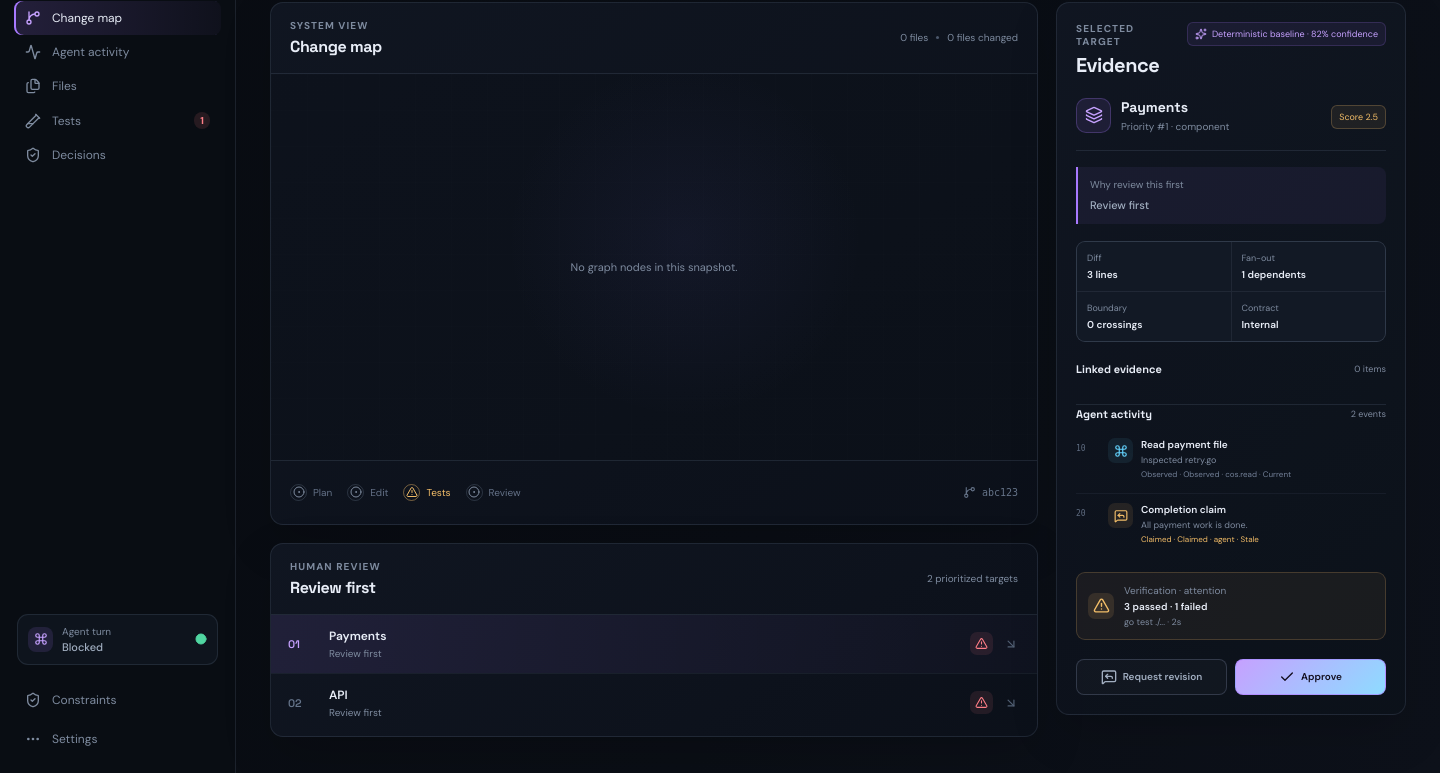
Test: Atlas app states › renders target-scoped agent activity with claim and freshness semantics
(page scrolled)
expect the text "API contract check" is not shown: met
Click the button with class "review-row" showing "02 API Review first".
click(355, 712)  # box [271,673,1037,732]
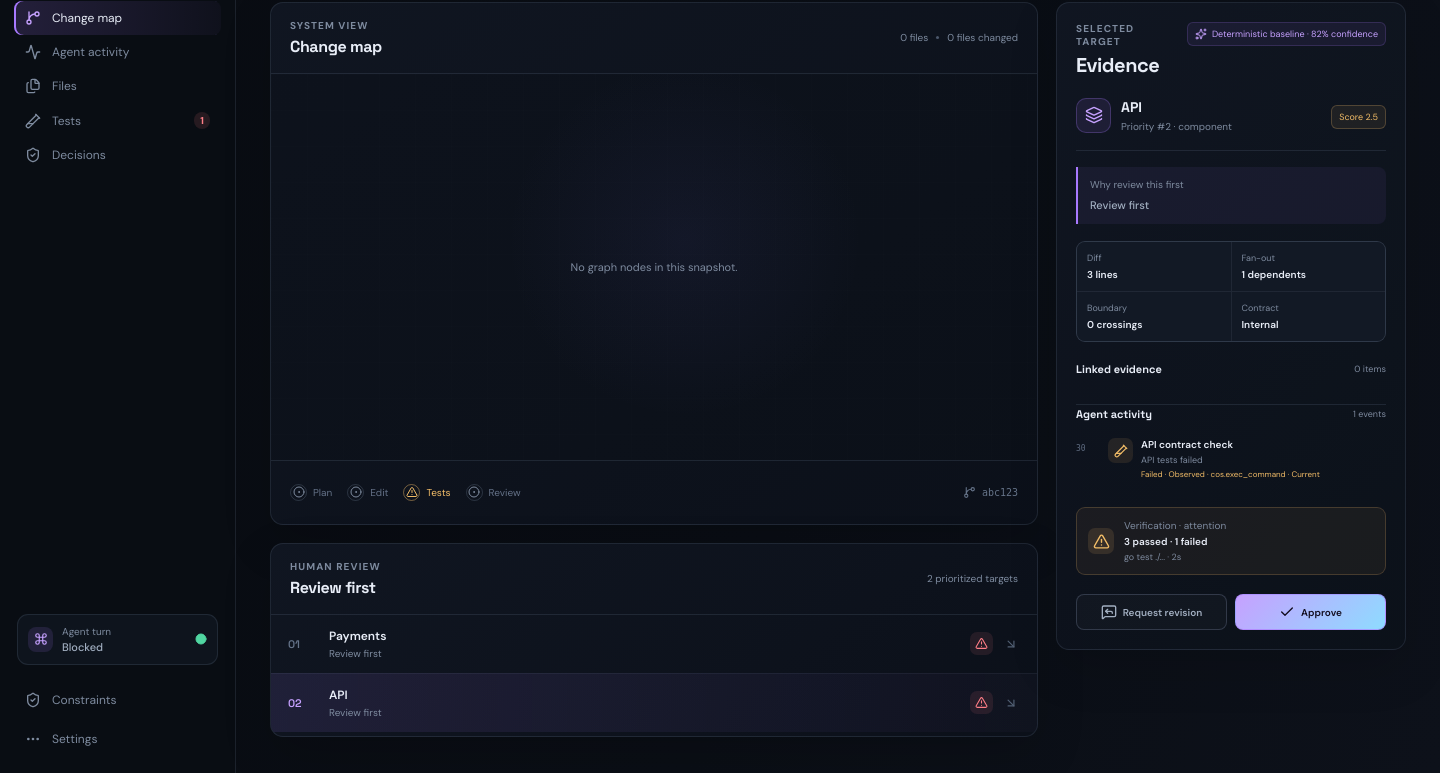
expect the text "API contract check" is shown: met, box [1141,438,1233,451]
expect the text "Failed · Observed · cos.exec_command · Current" is shown: met, box [1141,469,1320,479]
expect the element with class "failed" that starts with "API contract check" is shown: met, box [1076,438,1320,479]
